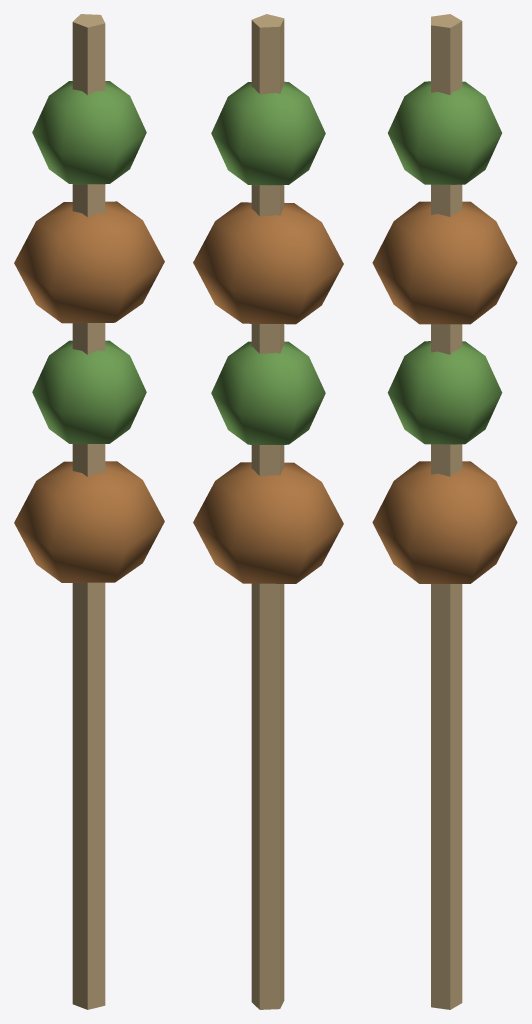
The model's file is item_yakitori.glb.
The picture shows the model from 3 angles, left to right: view 1: azimuth 30°, elevation 25°; view 2: azimuth 150°, elevation 25°; view 3: azimuth 270°, elevation 25°; orthographic projection.
Parts seen in each view (by area): view 1: item_yakitori; view 2: item_yakitori; view 3: item_yakitori.
Boxes of the visible parts, box(x1,y1,x2,y2) form: item_yakitori: box(14, 14, 164, 1009); item_yakitori: box(193, 14, 343, 1009); item_yakitori: box(372, 14, 517, 1009).
Bounding box in the file's own units: 0.0381 × 0.312 × 0.0418.
